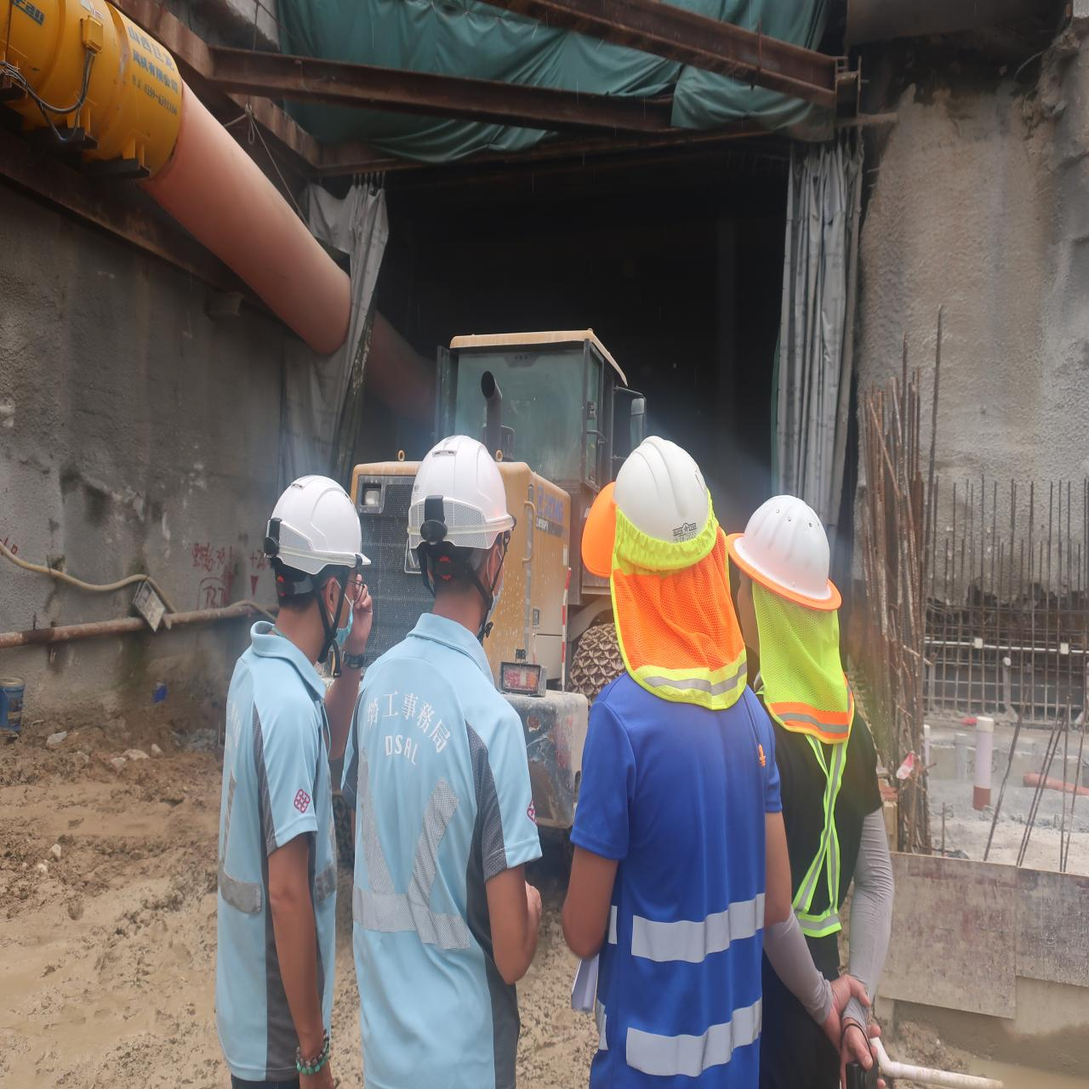NO_Safety_Vest: (354, 645, 528, 1083), (579, 675, 771, 1062), (213, 612, 330, 1049), (754, 669, 872, 996)
Person: (546, 413, 812, 1089), (326, 418, 544, 1089), (191, 436, 381, 1089), (718, 473, 898, 1089)
